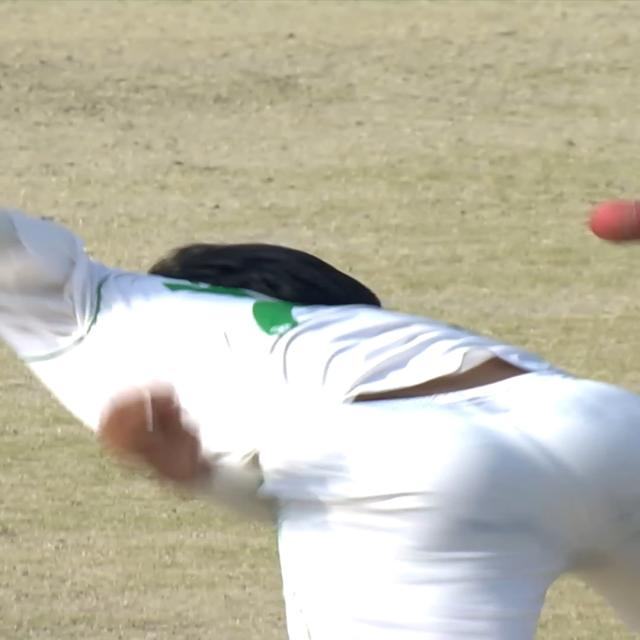Cricket ball: (589, 197, 640, 245)
